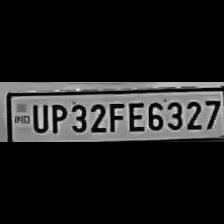2: (88, 100, 106, 134), (184, 98, 202, 130)
3: (67, 100, 87, 134), (164, 98, 182, 132)
6: (145, 98, 163, 132)
7: (202, 97, 220, 130)
E: (124, 99, 144, 134)
F: (106, 99, 124, 133)
P: (47, 100, 66, 134)
U: (28, 101, 48, 133)
